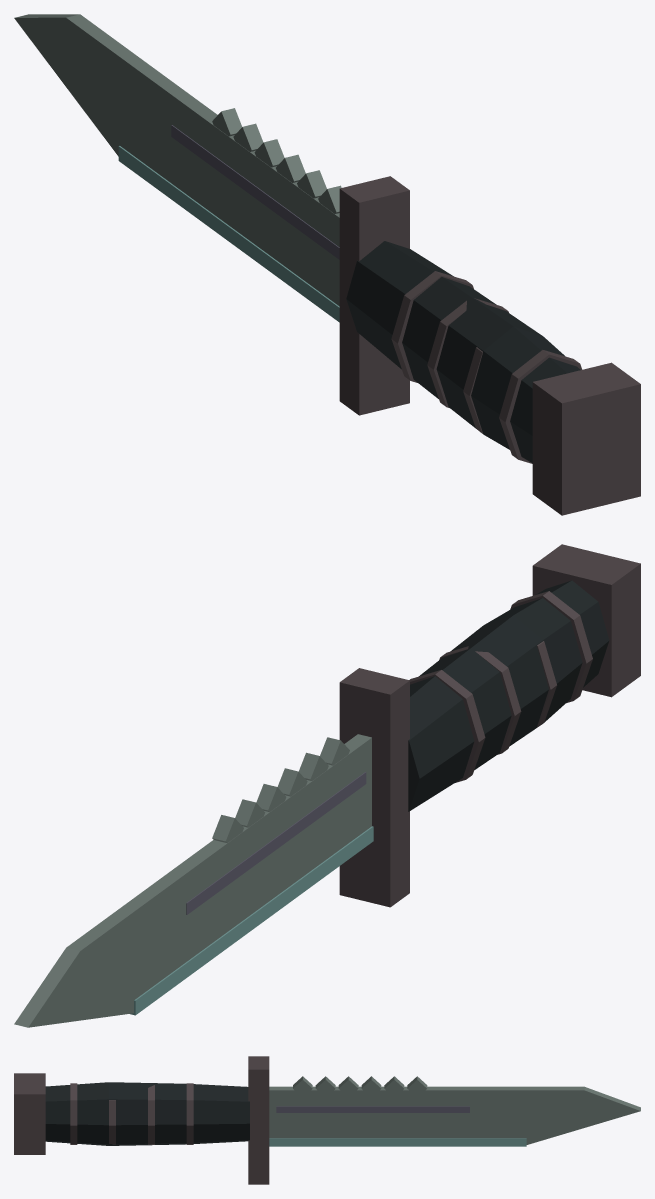
File: cutit.glb
The picture shows the model from 3 angles, top to bottom: view 1: azimuth 30°, elevation 25°; view 2: azimuth 150°, elevation 25°; view 3: azimuth 270°, elevation 25°; orthographic projection. The views are drawn at different scales.
Parts seen in each view (by area): view 1: Cutit; view 2: Cutit; view 3: Cutit.
Boxes of the visible parts, <box> form: Cutit: <box>14,14,640,515</box>; Cutit: <box>14,544,640,1027</box>; Cutit: <box>14,1056,640,1184</box>.
Bounding box in the file's own units: 0.031 × 0.072 × 0.356.
